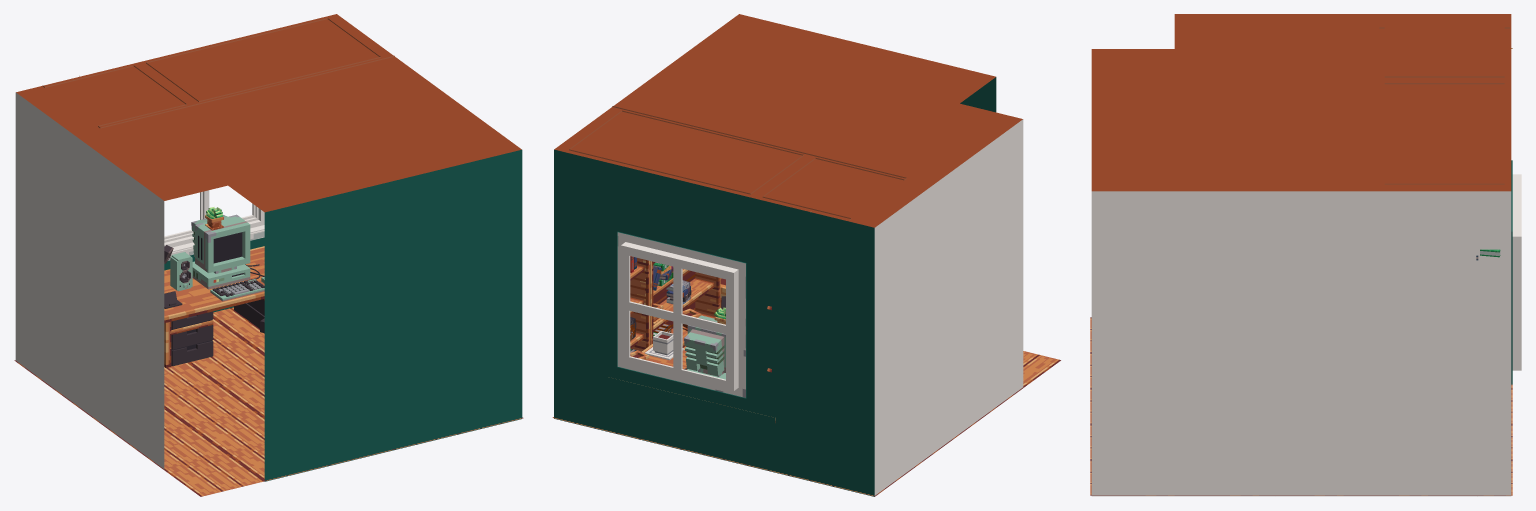
The model's file is VoxelRoomBlend-transformed.glb.
The picture shows the model from 3 angles, left to right: view 1: azimuth 30°, elevation 25°; view 2: azimuth 150°, elevation 25°; view 3: azimuth 270°, elevation 25°; orthographic projection. The views are drawn at different scales.
Parts seen in each view (by area): view 1: VoxelRoom; view 2: VoxelRoom; view 3: VoxelRoom.
Part boxes in pixels (x1=…): VoxelRoom: x1=14, y1=14, x2=523, y2=496; VoxelRoom: x1=552, y1=14, x2=1060, y2=496; VoxelRoom: x1=1090, y1=14, x2=1521, y2=496.
Bounding box in the file's own units: 3.22 × 2.56 × 3.27.
Materials: 1 (1 with a texture image).
